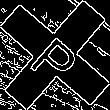P_NE: (25, 24, 85, 86)
